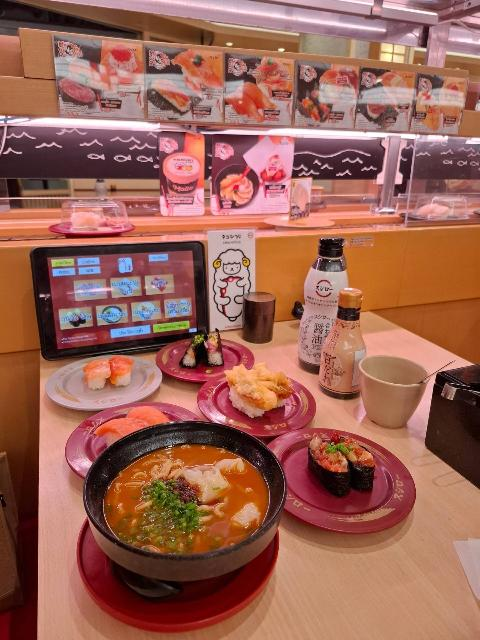janred: (82, 494, 279, 616), (277, 413, 392, 521), (89, 389, 183, 484), (199, 369, 292, 442), (170, 340, 264, 388), (42, 213, 161, 239)
janwhite: (46, 364, 162, 411)
